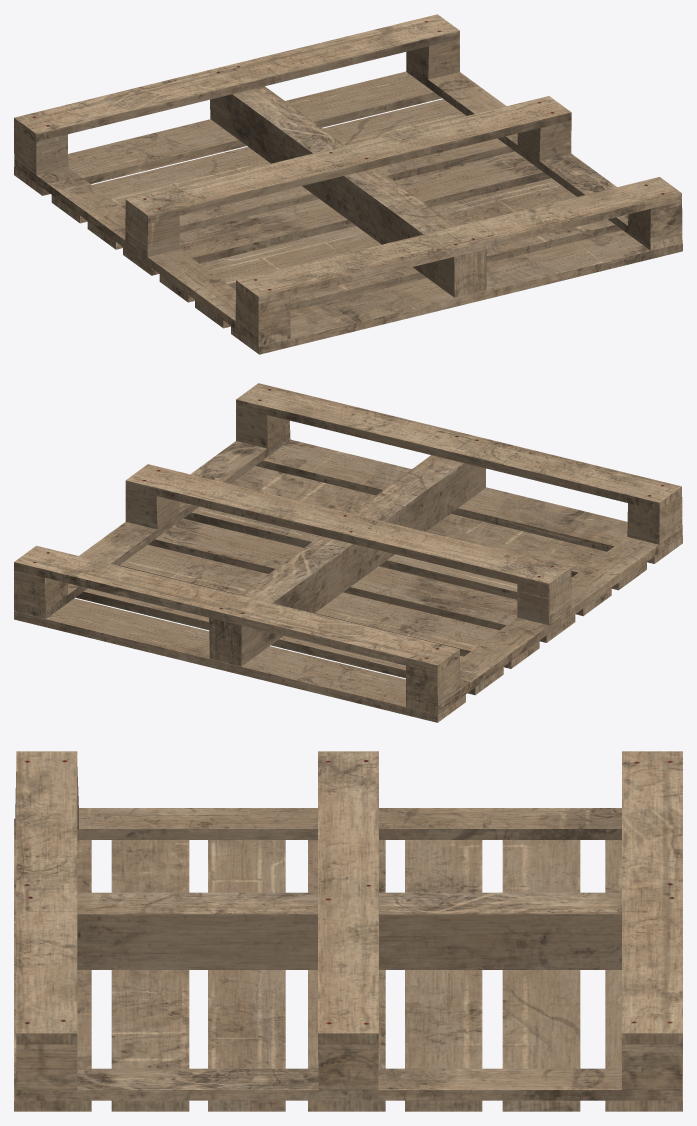
Rendered from wood_pallet.glb.
The picture shows the model from 3 angles, top to bottom: view 1: azimuth 30°, elevation 25°; view 2: azimuth 150°, elevation 25°; view 3: azimuth 270°, elevation 25°; orthographic projection. The views are drawn at different scales.
Parts seen in each view (by area): view 1: SM_Pallet_00a; view 2: SM_Pallet_00a; view 3: SM_Pallet_00a.
Boxes of the visible parts, x1=… form: SM_Pallet_00a: x1=14, y1=14, x2=682, y2=354; SM_Pallet_00a: x1=14, y1=383, x2=682, y2=722; SM_Pallet_00a: x1=14, y1=751, x2=682, y2=1111.
Size of the model in its own units: 1.3 by 0.1686 by 1.3.
Materials: 1 (1 with a texture image).
